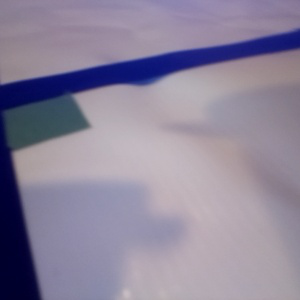bottom_right: (1, 84, 90, 150)
